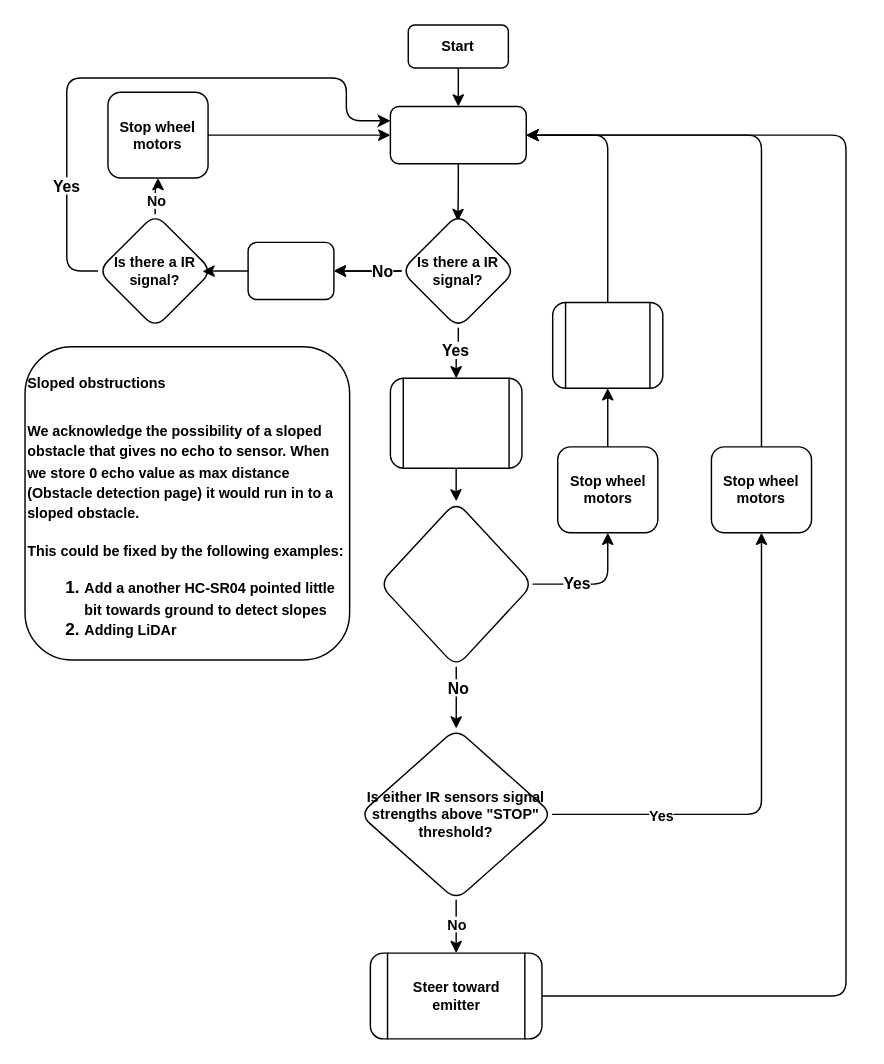
The diagram is 884 pixels wide and 1064 high, and some of its shapes have lost their labels. Here are the shapes that lost their labels. From the top down, the centre of each, then its label:
At point 457,134: "Measure signal strength to IR emitter".
At point 290,270: "Wait 1000ms".
At point 607,344: "Steer away from obstruction".
At point 455,422: "Measure distance to possible obstructions".
At point 455,583: "Does front distance sensor detect an obstacle? <30cm".
